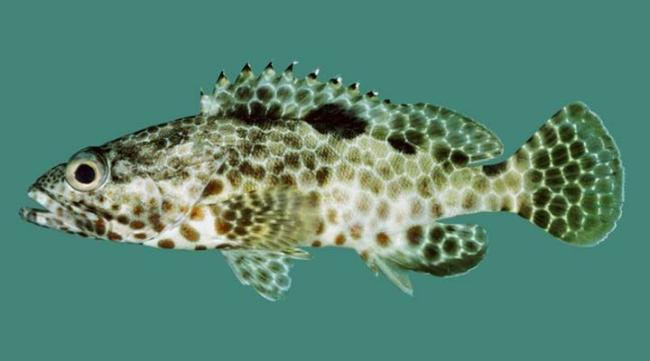fish: (18, 57, 627, 304)
